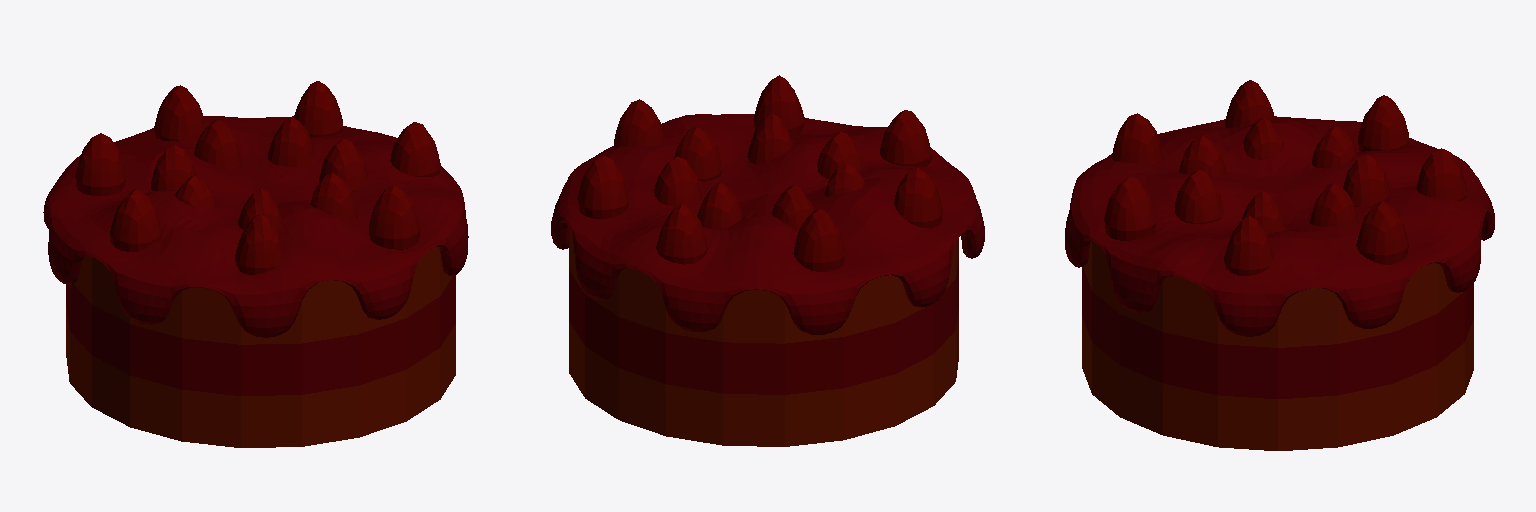
File: Cake03.obj
The picture shows the model from 3 angles: view 1: azimuth 30°, elevation 25°; view 2: azimuth 150°, elevation 25°; view 3: azimuth 270°, elevation 25°; orthographic projection.
Visible parts, largest first — view 1: Cake03_Cylinder.083; view 2: Cake03_Cylinder.083; view 3: Cake03_Cylinder.083.
Part boxes in pixels (x1,y1,x2,y2): Cake03_Cylinder.083: (43, 81, 468, 447); Cake03_Cylinder.083: (551, 75, 984, 446); Cake03_Cylinder.083: (1065, 80, 1494, 450).
Bounding box in the file's own units: 10.9 × 6.16 × 10.9.